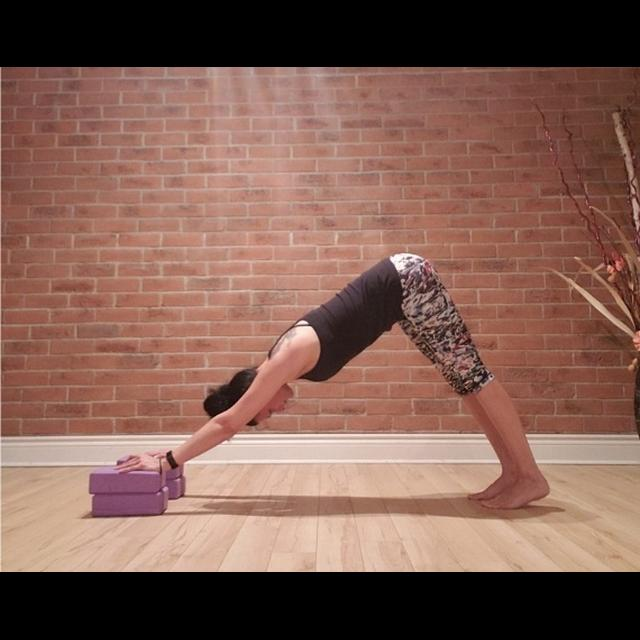Downward-Facing_Dog: (108, 245, 558, 520)
